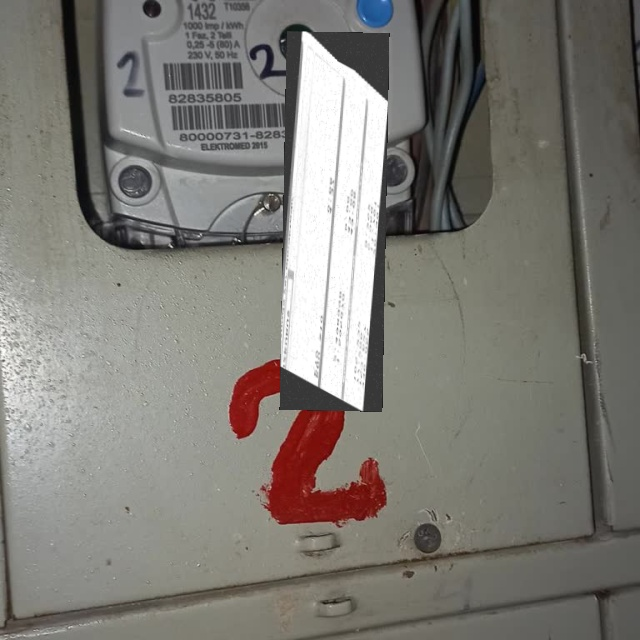electricity-bill: (279, 31, 389, 412)
